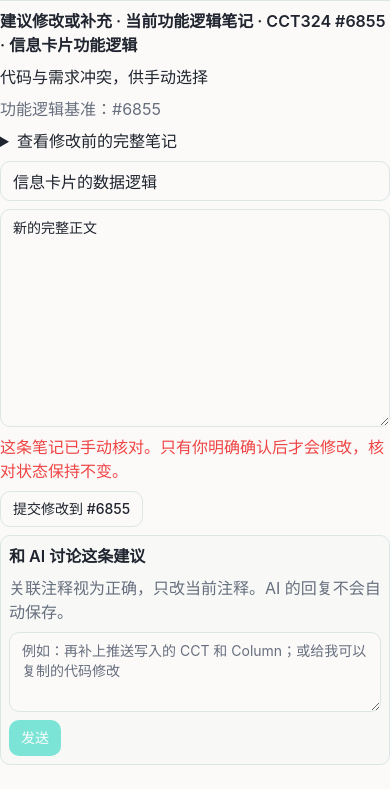
dialog reply can be placed into the editor but never saves by itself
Type "再补上推送" into the text box named "对 AI 说" at (195, 672), box [9,632,381,712]
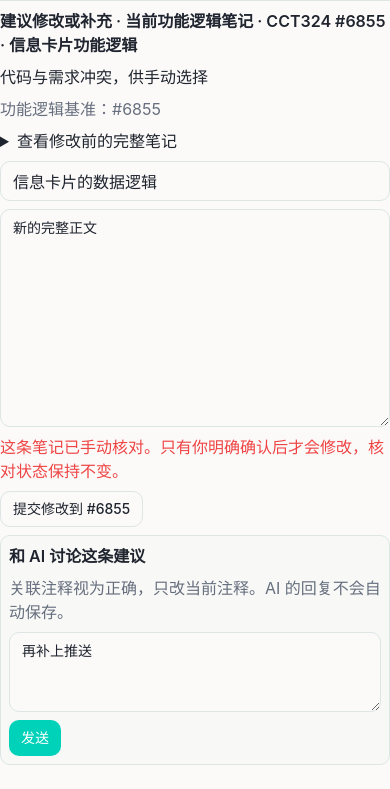
Click the button "发送" at (35, 738), box [9,720,61,756]
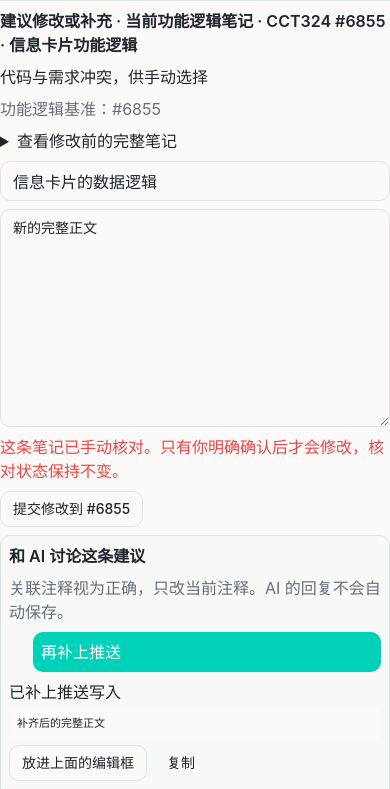
Expected: the text "已补上推送写入" is shown, [9,682,121,702]
Click the button "放进上面的编辑框" at (78, 762), box [9,744,147,780]
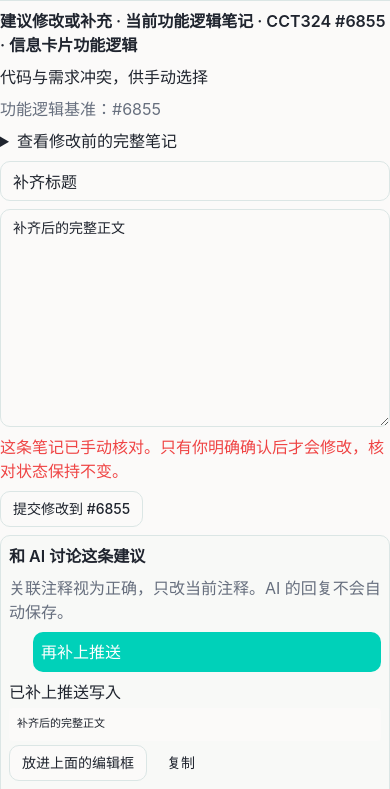
Expected: the text box named "建议修改或补充完整正文" holds "补齐后的完整正文", [0,209,389,427]
